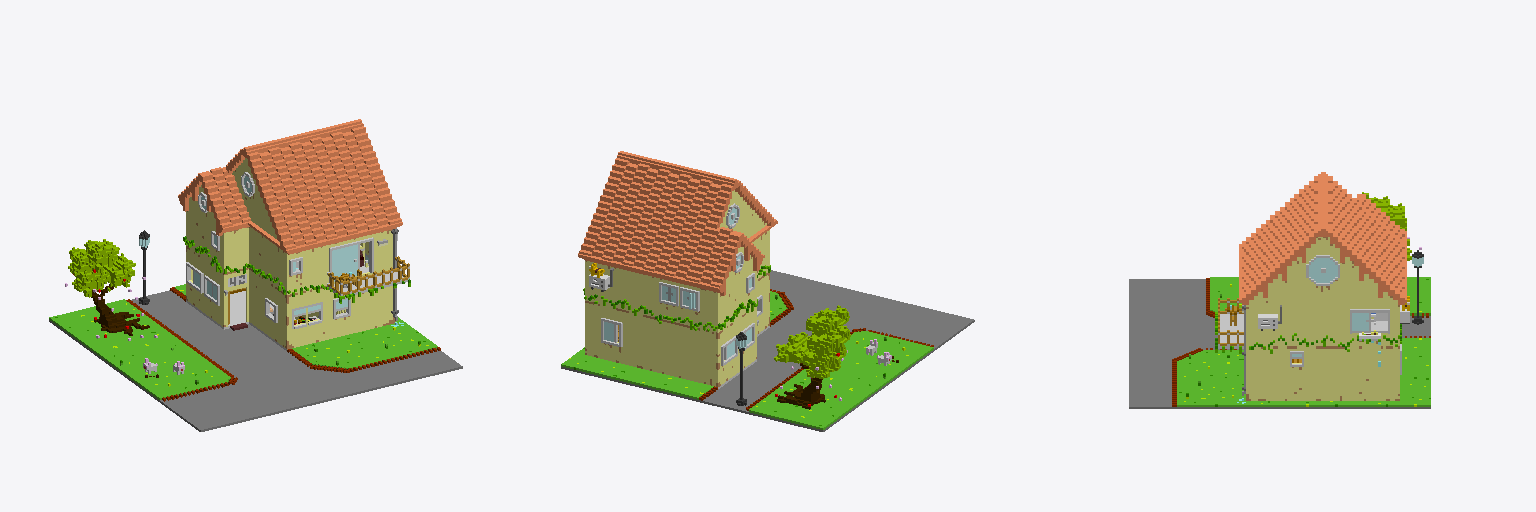
3 views of the same model, side by side, from view 1: azimuth 30°, elevation 25°; view 2: azimuth 150°, elevation 25°; view 3: azimuth 270°, elevation 25° (orthographic).
Size of the model in its own units: 126 by 82 by 126.
Materials: 1 (1 with a texture image).